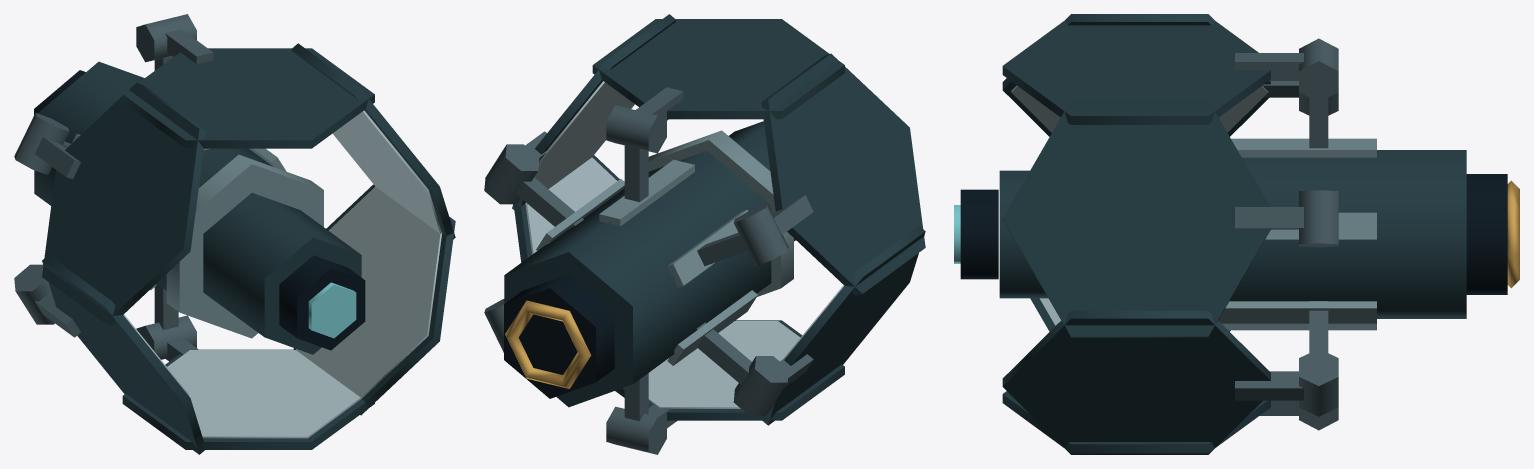
File: satellite_d0_lod2.glb
3 views of the same model, side by side, from view 1: azimuth 30°, elevation 25°; view 2: azimuth 150°, elevation 25°; view 3: azimuth 270°, elevation 25° (orthographic). The views are drawn at different scales.
Visible parts, largest first — view 1: DISTANCE_STATIC; view 2: DISTANCE_STATIC; view 3: DISTANCE_STATIC.
Boxes of the visible parts, <box> form: DISTANCE_STATIC: <box>14,14,455,454</box>; DISTANCE_STATIC: <box>484,14,925,454</box>; DISTANCE_STATIC: <box>954,14,1519,454</box>.
Size of the model in its own units: 2.31 by 2.14 by 2.97.
